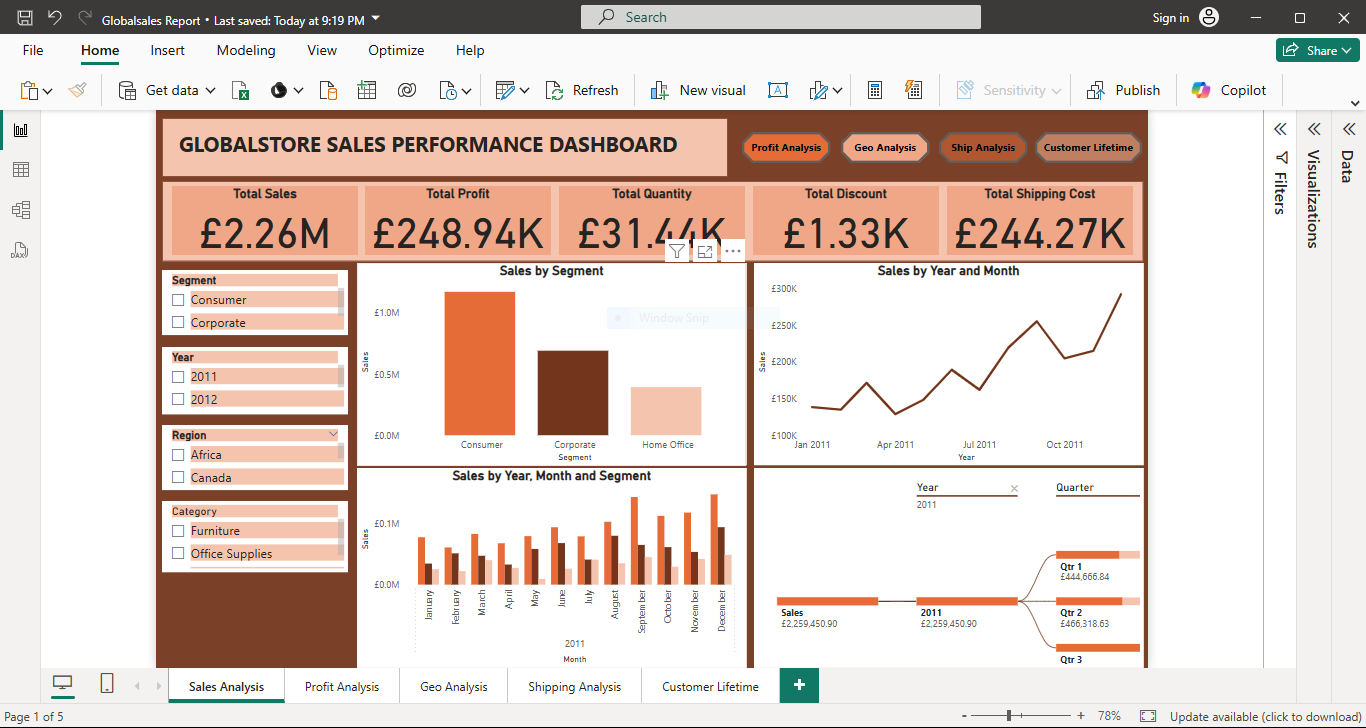

The dashboard page shown, as its layout file describes it:
{"tool":"powerbi","page":{"name":"Sales Analysis","canvas":[1280,720],"ordinal":0},"visuals":[{"type":"shape","box":[8,10,730,76],"z":0},{"type":"textbox","box":[25,21.2,706.2,53.8],"z":1000},{"type":"shape","box":[7.5,91.2,1266.2,103.8],"z":2000},{"type":"card","title":"Total Sales","fields":{"Values":["Sum(Globalstore-Data.Sales)"]},"box":[20,98.5,240,88.8],"z":3000},{"type":"card","title":"Total Profit","fields":{"Values":["Sum(Globalstore-Data.Profit)"]},"box":[270.3,98.5,240,88.8],"z":4000},{"type":"card","title":"Total Quantity","fields":{"Values":["Sum(Globalstore-Data.Quantity)"]},"box":[520.6,98.5,240,88.8],"z":5000},{"type":"card","title":"Total Discount","fields":{"Values":["Sum(Globalstore-Data.Discount)"]},"box":[770.9,98.5,240,88.8],"z":6000},{"type":"card","title":"Total Shipping Cost","fields":{"Values":["Sum(Globalstore-Data.Shipping Cost)"]},"box":[1021.2,98.5,240,88.8],"z":7000},{"type":"clusteredColumnChart","fields":{"Y":["Sum(Globalstore-Data.Sales)"],"Category":["Globalstore-Data.Segment"]},"box":[258.8,197.5,502.5,261.2],"z":8000},{"type":"lineChart","fields":{"Category":["Globalstore-Data.Order Date.Variation.Date Hierarchy.Year","Globalstore-Data.Order Date.Variation.Date Hierarchy.Month"],"Y":["Sum(Globalstore-Data.Sales)"]},"box":[771.2,197.5,502.5,261.2],"z":9000},{"type":"clusteredColumnChart","fields":{"Y":["Sum(Globalstore-Data.Sales)"],"Category":["Globalstore-Data.Order Date.Variation.Date Hierarchy.Year","Globalstore-Data.Order Date.Variation.Date Hierarchy.Month"],"Series":["Globalstore-Data.Segment"]},"box":[258.8,462.5,502.5,257.5],"z":10000},{"type":"decompositionTreeVisual","title":"Sales by Seasonal Patterns","fields":{"Analyze":["Sum(Globalstore-Data.Sales)"],"ExplainBy":["Globalstore-Data.Order Date.Variation.Date Hierarchy.Year","Globalstore-Data.Order Date.Variation.Date Hierarchy.Quarter","Globalstore-Data.Order Date","Globalstore-Data.Order Date.Variation.Date Hierarchy.Month"]},"box":[771.2,462.5,502.5,257.5],"z":11000},{"type":"slicer","fields":{"Values":["Globalstore-Data.Segment"]},"box":[7.8,206.8,240,84.4],"z":12000},{"type":"slicer","fields":{"Values":["Globalstore-Data.Order Date.Variation.Date Hierarchy.Year"]},"box":[7.8,305.3,240,86.7],"z":13000},{"type":"slicer","fields":{"Values":["Globalstore-Data.Region"]},"box":[7.8,406,240,84.4],"z":14000},{"type":"slicer","fields":{"Values":["Globalstore-Data.Category"]},"box":[7.8,504.4,240,92.2],"z":15000},{"type":"actionButton","box":[756,28,114,40],"z":16000},{"type":"actionButton","box":[1010.7,28,114,40],"z":17000},{"type":"actionButton","box":[883.3,28,114,40],"z":18000},{"type":"actionButton","box":[1134,28,138,40],"z":19000}]}

Visuals, with their boxes on the page's 1280x720 design canvas (x1, y1, x2, y2). These are canvas units, not pixel positions in the 1366x728 screenshot, which may show the page scaled, cropped or inside an application window:
shape: bbox=[8, 10, 738, 86]
textbox: bbox=[25, 21, 731, 75]
shape: bbox=[8, 91, 1274, 195]
"Total Sales" card: bbox=[20, 98, 260, 187]
"Total Profit" card: bbox=[270, 98, 510, 187]
"Total Quantity" card: bbox=[521, 98, 761, 187]
"Total Discount" card: bbox=[771, 98, 1011, 187]
"Total Shipping Cost" card: bbox=[1021, 98, 1261, 187]
clusteredColumnChart - Sum(Globalstore-Data.Sales) x Globalstore-Data.Segment: bbox=[259, 198, 761, 459]
lineChart - Globalstore-Data.Order Date.Variation.Date Hierarchy.Year x Globalstore-Data.Order Date.Variation.Date Hierarchy.Month: bbox=[771, 198, 1274, 459]
clusteredColumnChart - Sum(Globalstore-Data.Sales) x Globalstore-Data.Order Date.Variation.Date Hierarchy.Year: bbox=[259, 462, 761, 720]
"Sales by Seasonal Patterns" decompositionTreeVisual: bbox=[771, 462, 1274, 720]
slicer - Globalstore-Data.Segment: bbox=[8, 207, 248, 291]
slicer - Globalstore-Data.Order Date.Variation.Date Hierarchy.Year: bbox=[8, 305, 248, 392]
slicer - Globalstore-Data.Region: bbox=[8, 406, 248, 490]
slicer - Globalstore-Data.Category: bbox=[8, 504, 248, 597]
actionButton: bbox=[756, 28, 870, 68]
actionButton: bbox=[1011, 28, 1125, 68]
actionButton: bbox=[883, 28, 997, 68]
actionButton: bbox=[1134, 28, 1272, 68]
